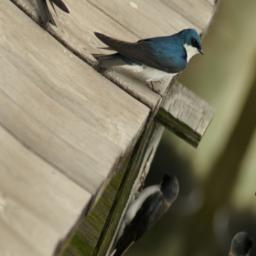Swallow: (84, 0, 210, 124)
